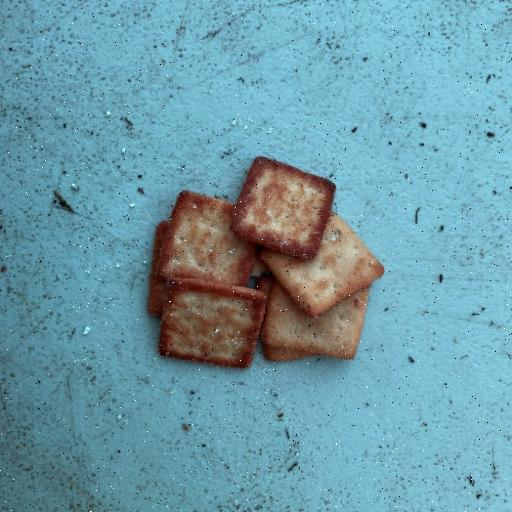Waste: (146, 154, 386, 368), (258, 210, 385, 318), (229, 154, 337, 260), (154, 188, 256, 288), (156, 280, 266, 370)
